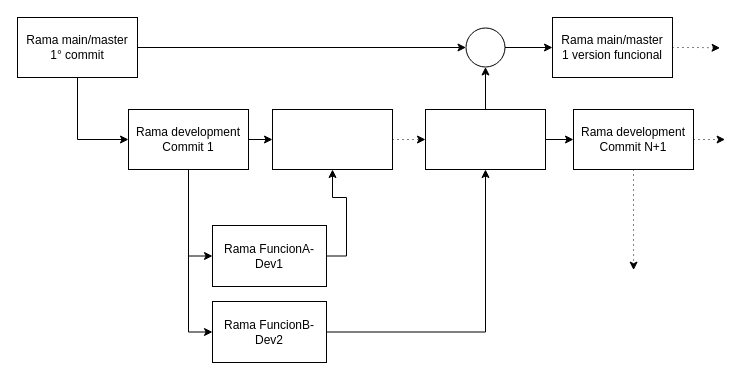
This 751x380 diagram has some shape labels left out. The centre of each missing label's shape, as x and y in pixels:
Merge: the point at 485,47
Rama development Commit 2: the point at 332,139
Rama development Commit N: the point at 485,139
